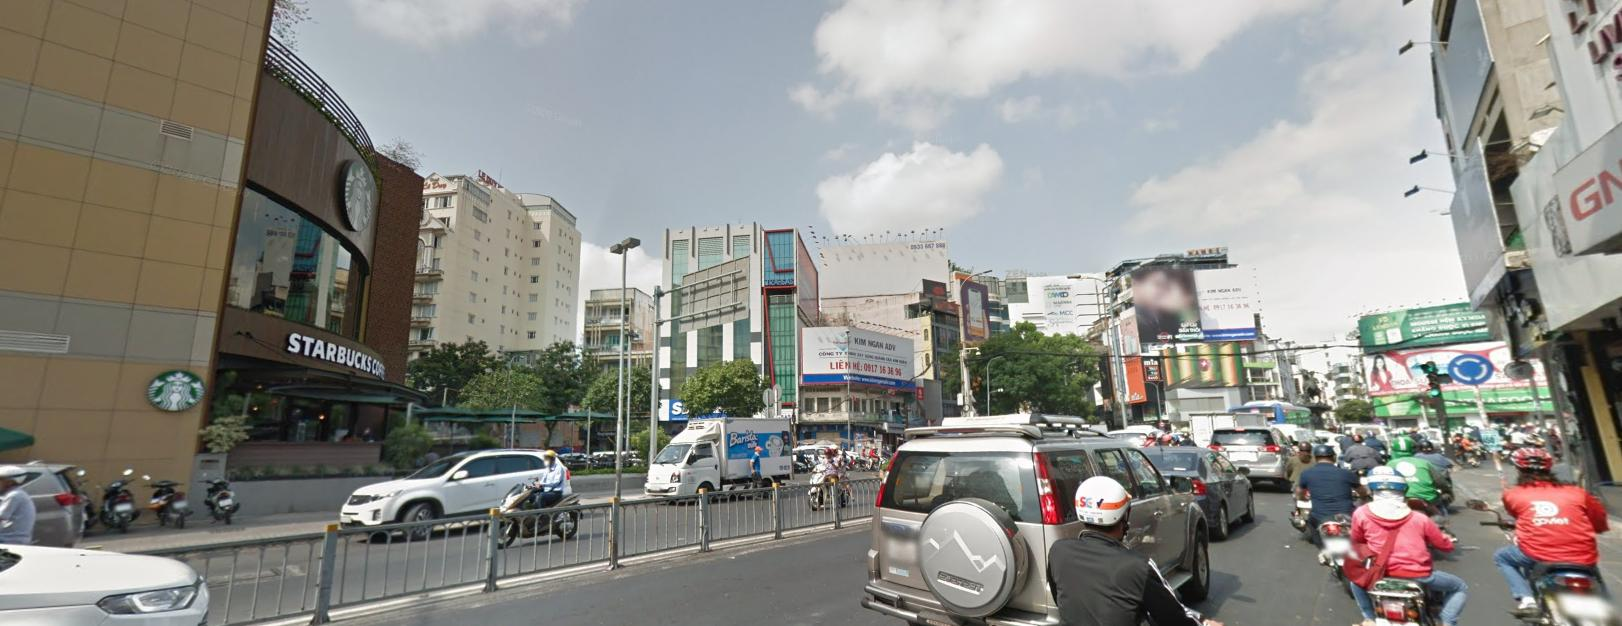Hieu lenh: (1442, 351, 1495, 387)
